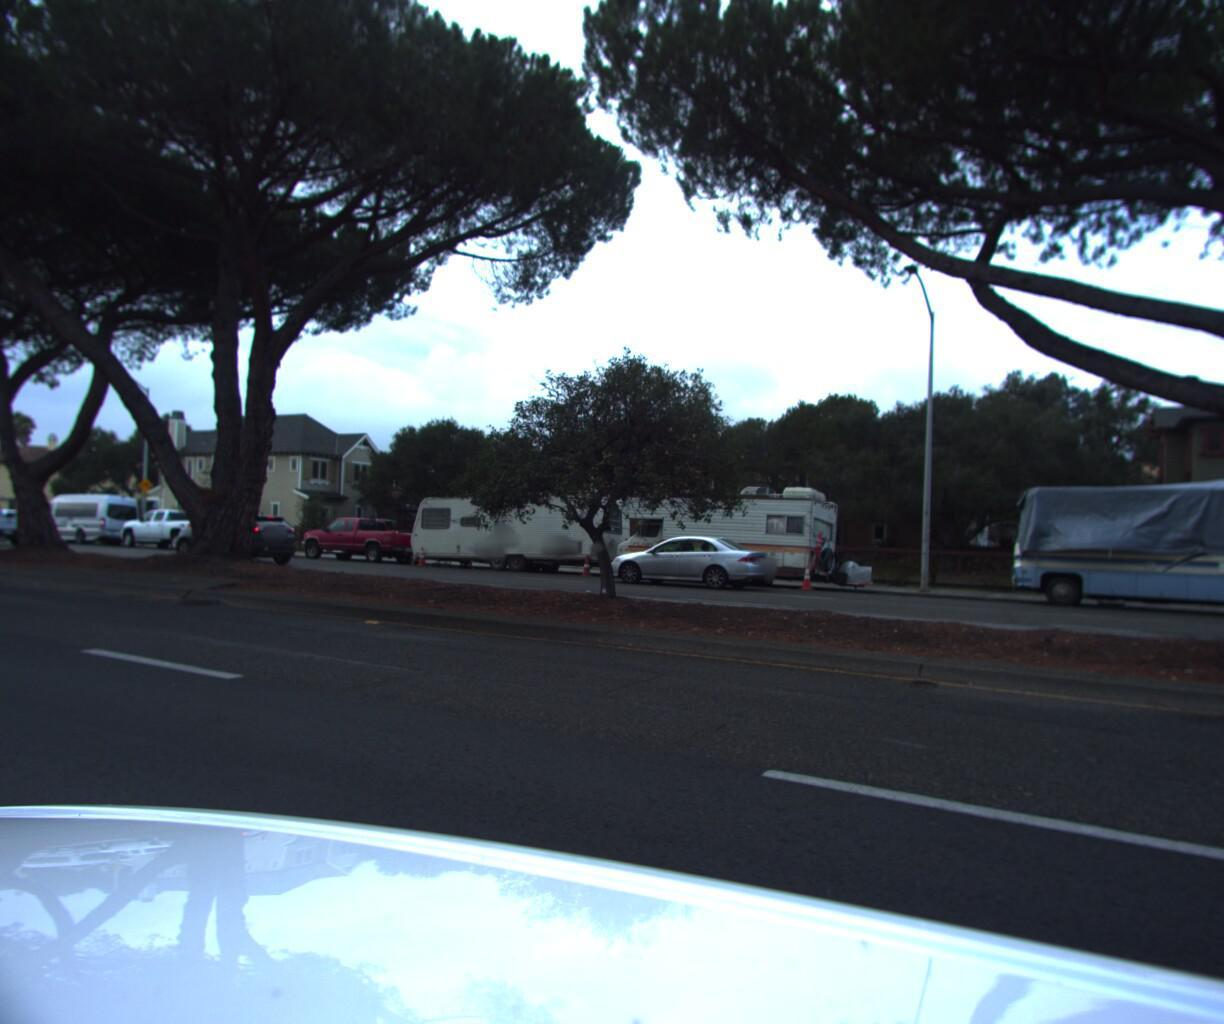car: (603, 532, 778, 595), (291, 517, 434, 571), (19, 493, 144, 553), (170, 514, 302, 569), (110, 511, 233, 558), (0, 498, 36, 552)
other_vehicle: (994, 466, 1224, 634), (603, 482, 852, 599), (397, 485, 639, 582)
